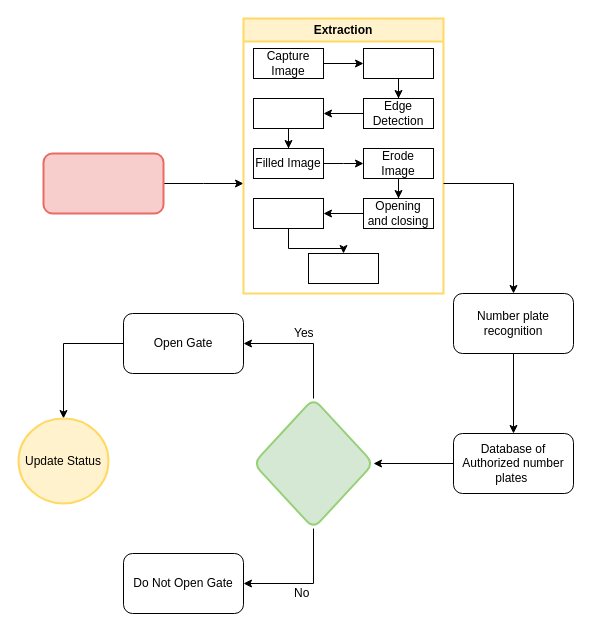
The diagram is 591 pixels wide and 631 high, and some of its shapes have lost their labels. The shapes that lost their labels are listed below. From the top down, each one's box as (x1, y1, x2, y2) in pixels, then its label:
(362, 48, 434, 78): Convert into Grey Scale
(252, 98, 324, 128): Dilation
(42, 152, 164, 214): Number Plate
(252, 198, 324, 228): Filter image
(308, 252, 378, 284): Segmentation
(252, 397, 374, 529): Check if Registered in Database
